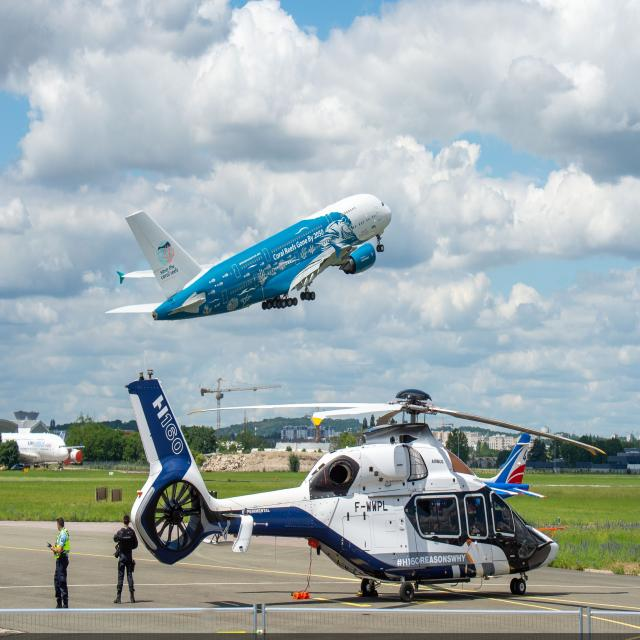helicopter: (112, 348, 616, 617)
